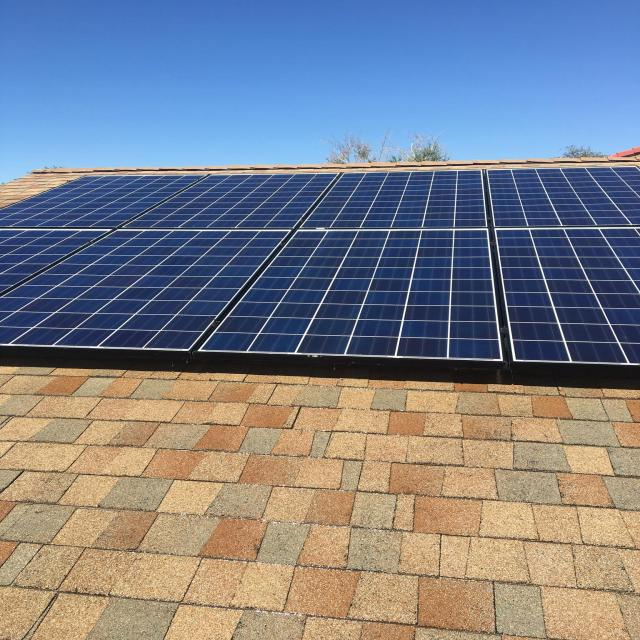clean-solar-panel: (497, 228, 638, 364)
